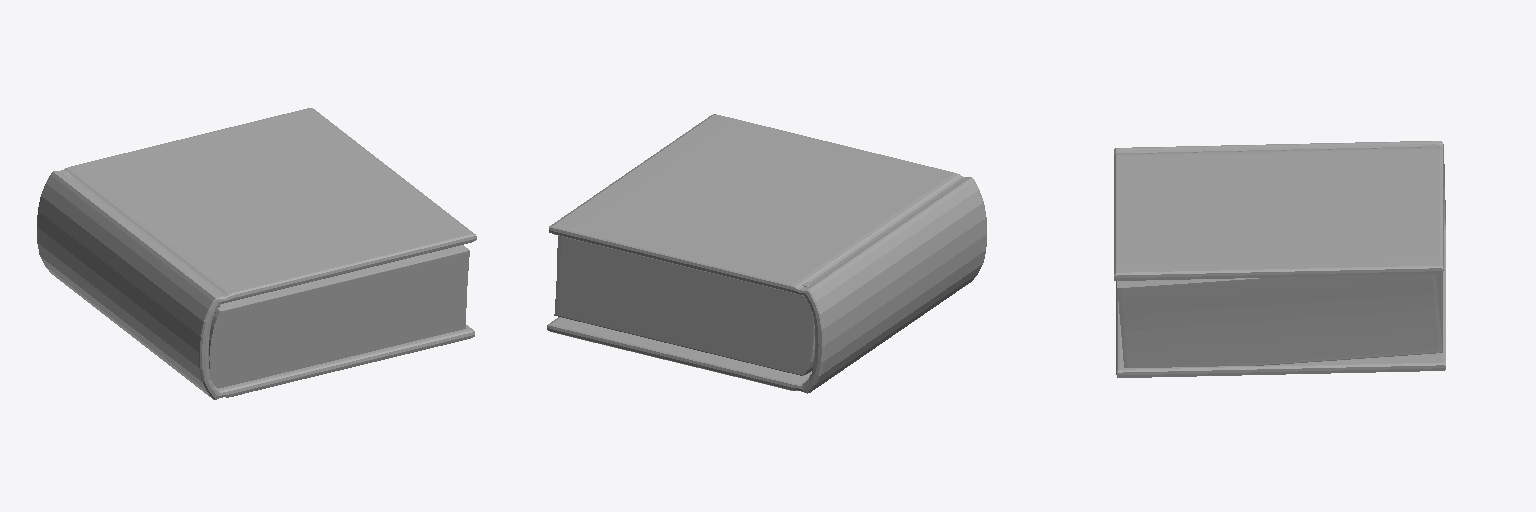
File: blank-book.obj
The picture shows the model from 3 angles: view 1: azimuth 30°, elevation 25°; view 2: azimuth 150°, elevation 25°; view 3: azimuth 270°, elevation 25°; orthographic projection.
Parts seen in each view (by area): view 1: Layer_0, Layer_0.001; view 2: Layer_0, Layer_0.001; view 3: Layer_0, Layer_0.001.
Part boxes in pixels (left/top/right/bottom): Layer_0: left=37, top=108, right=476, bottom=399; Layer_0.001: left=62, top=171, right=469, bottom=388; Layer_0: left=547, top=114, right=986, bottom=393; Layer_0.001: left=554, top=236, right=814, bottom=375; Layer_0: left=1114, top=141, right=1445, bottom=377; Layer_0.001: left=1117, top=144, right=1442, bottom=367.
Size of the model in its own units: 0.2168 by 0.0846 by 0.2265.